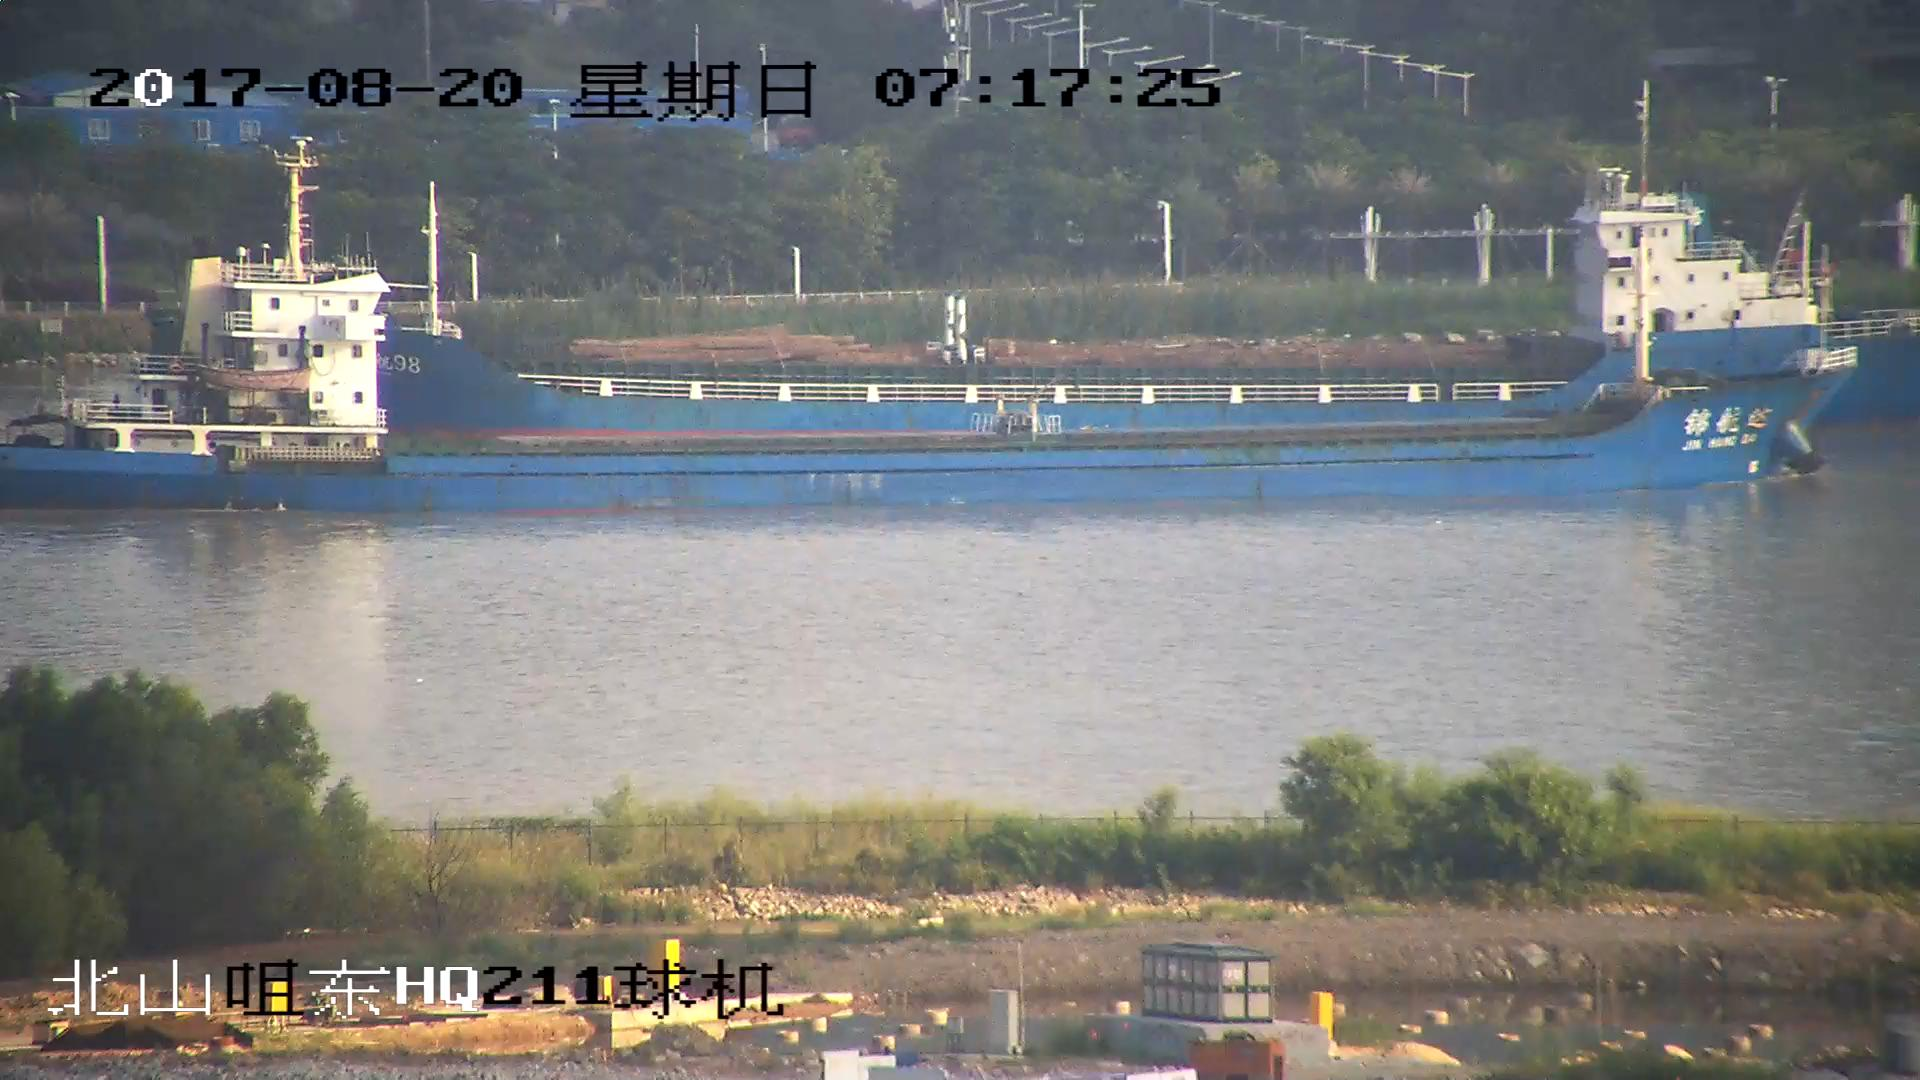general cargo ship: (1, 159, 1833, 502), (151, 120, 1920, 446)
